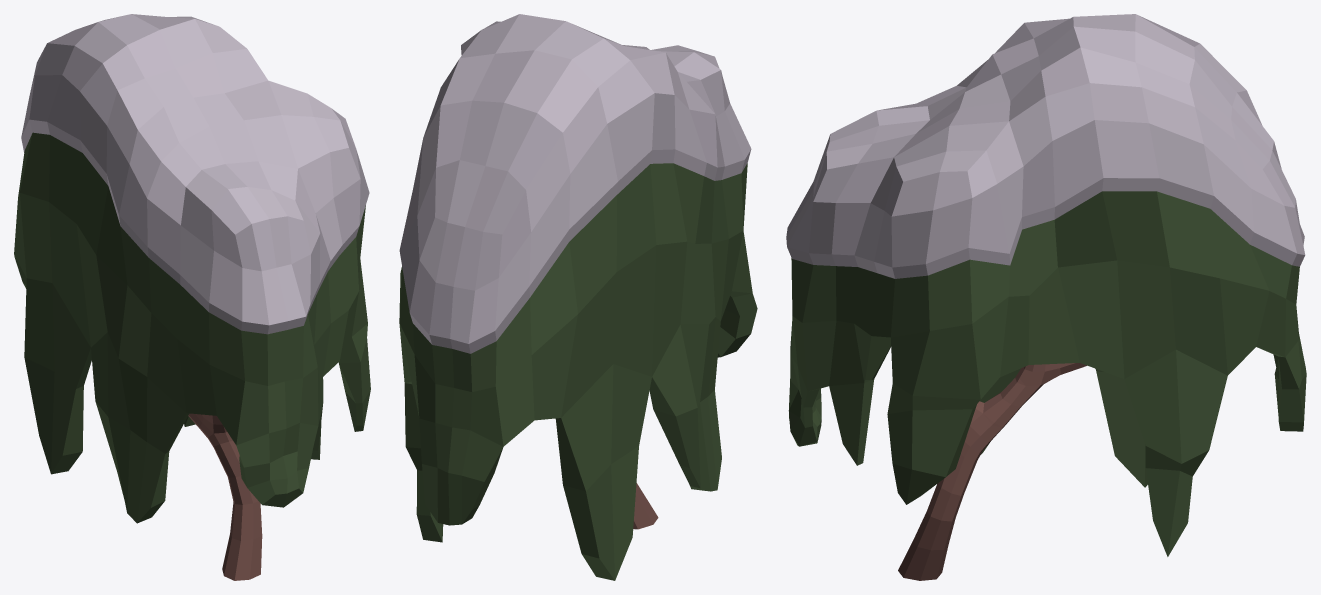
The model's file is willow_snow_1.glb.
3 renders of one model, left to right at view 1: azimuth 30°, elevation 25°; view 2: azimuth 150°, elevation 25°; view 3: azimuth 270°, elevation 25°, orthographic. The views are drawn at different scales.
Visible parts, largest first — view 1: Willow_Snow_1; view 2: Willow_Snow_1; view 3: Willow_Snow_1.
Boxes of the visible parts, x1,y1,x2,y2 form: Willow_Snow_1: (14,14,370,580); Willow_Snow_1: (399,14,757,580); Willow_Snow_1: (786,14,1306,580).
Size of the model in its own units: 3.62 by 7.33 by 6.42.
